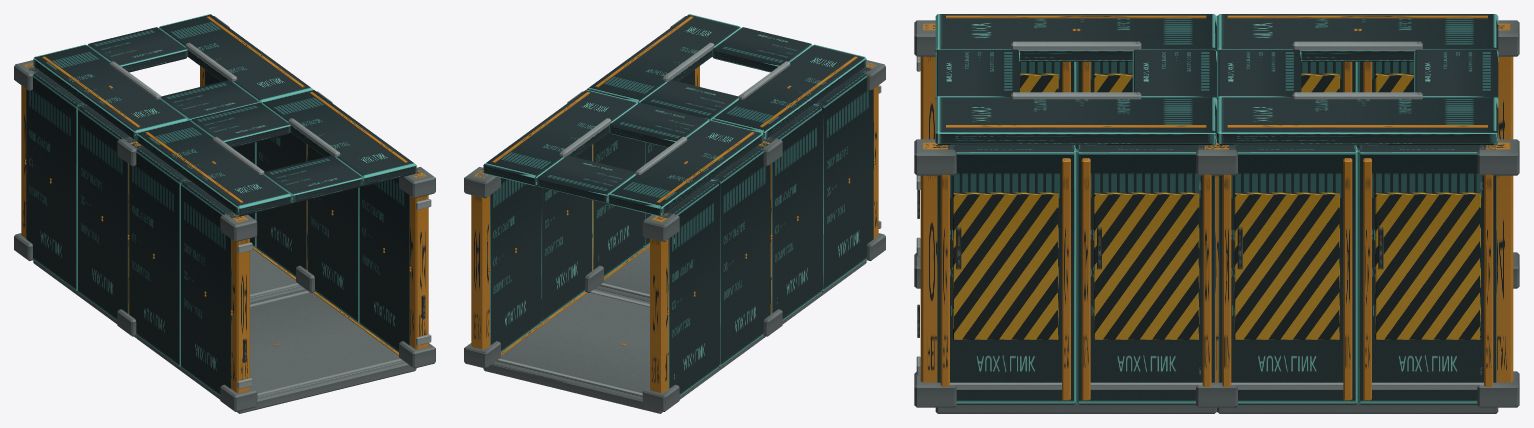
File: ServiceCorridor_LOD0.obj
3 views of the same model, side by side, from view 1: azimuth 30°, elevation 25°; view 2: azimuth 150°, elevation 25°; view 3: azimuth 270°, elevation 25° (orthographic). The views are drawn at different scales.
Parts seen in each view (by area): view 1: 010_roof_skylight_4m, 011_roof_skylight_4m, 000_floor_4m.012, 005_wall_solid_2m, 003_wall_solid_2m, 004_wall_solid_2m, 002_wall_solid_2m, 006_wall_solid_2m, 007_wall_solid_2m, 012_column_4m.012, 008_wall_solid_2m, 015_column_4m.012 (+5 smaller); view 2: 011_roof_skylight_4m, 010_roof_skylight_4m, 001_floor_4m.004, 002_wall_solid_2m, 004_wall_solid_2m, 003_wall_solid_2m, 005_wall_solid_2m, 009_wall_solid_2m, 008_wall_solid_2m, 014_column_4m.012, 007_wall_solid_2m, 017_column_4m.004 (+5 smaller); view 3: 009_wall_solid_2m, 006_wall_solid_2m, 007_wall_solid_2m, 008_wall_solid_2m, 010_roof_skylight_4m, 011_roof_skylight_4m, 015_column_4m.012, 017_column_4m.004, 016_column_4m.004, 000_floor_4m.012, 001_floor_4m.004, 012_column_4m.012 (+5 smaller).
Part boxes in pixels (<box>): 010_roof_skylight_4m: <box>136,89,416,216</box>; 011_roof_skylight_4m: <box>33,14,312,140</box>; 000_floor_4m.012: <box>136,289,416,413</box>; 005_wall_solid_2m: <box>26,67,86,291</box>; 003_wall_solid_2m: <box>129,143,188,367</box>; 004_wall_solid_2m: <box>78,105,135,320</box>; 002_wall_solid_2m: <box>181,180,238,396</box>; 006_wall_solid_2m: <box>359,169,421,352</box>; 007_wall_solid_2m: <box>308,145,359,323</box>; 012_column_4m.012: <box>220,213,257,411</box>; 008_wall_solid_2m: <box>256,132,306,277</box>; 015_column_4m.012: <box>399,167,435,368</box>; 011_roof_skylight_4m: <box>483,89,763,216</box>; 010_roof_skylight_4m: <box>587,14,866,140</box>; 001_floor_4m.004: <box>483,289,763,413</box>; 002_wall_solid_2m: <box>813,67,873,291</box>; 004_wall_solid_2m: <box>711,143,770,367</box>; 003_wall_solid_2m: <box>764,105,821,320</box>; 005_wall_solid_2m: <box>661,180,718,396</box>; 009_wall_solid_2m: <box>478,169,540,352</box>; 008_wall_solid_2m: <box>540,145,591,323</box>; 014_column_4m.012: <box>642,212,679,411</box>; 007_wall_solid_2m: <box>593,132,643,277</box>; 017_column_4m.004: <box>464,167,500,368</box>; 009_wall_solid_2m: <box>1357,145,1496,404</box>; 006_wall_solid_2m: <box>937,145,1076,404</box>; 007_wall_solid_2m: <box>1076,145,1215,404</box>; 008_wall_solid_2m: <box>1218,145,1357,404</box>; 010_roof_skylight_4m: <box>935,14,1216,144</box>; 011_roof_skylight_4m: <box>1217,14,1498,144</box>; 015_column_4m.012: <box>914,139,956,407</box>; 017_column_4m.004: <box>1477,139,1519,407</box>; 016_column_4m.004: <box>1196,143,1237,407</box>; 000_floor_4m.012: <box>935,402,1216,413</box>; 001_floor_4m.004: <box>1217,402,1498,413</box>; 012_column_4m.012: <box>914,20,935,288</box>.
Bounding box in the file's own units: 4.52 × 4.51 × 8.6.
Materials: 1 (1 with a texture image).
